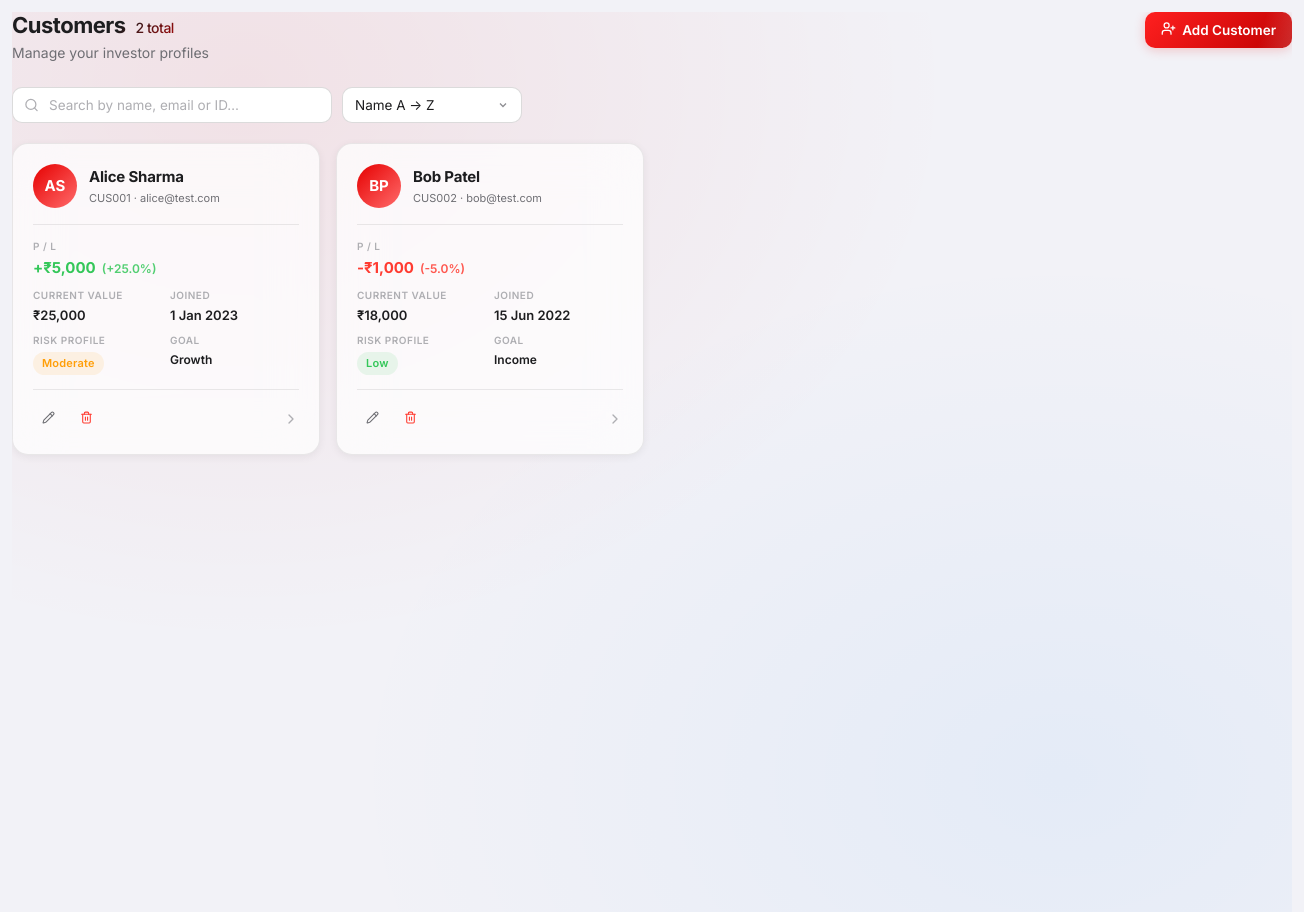
CustomersPage — search › filters customers by email
Expected: the text "Alice Sharma" is shown, [89,167,184,186]
In the search field with placeholder "Search by name, email or ID…": (172, 105) [12,87,332,123], type "bob@test.com"
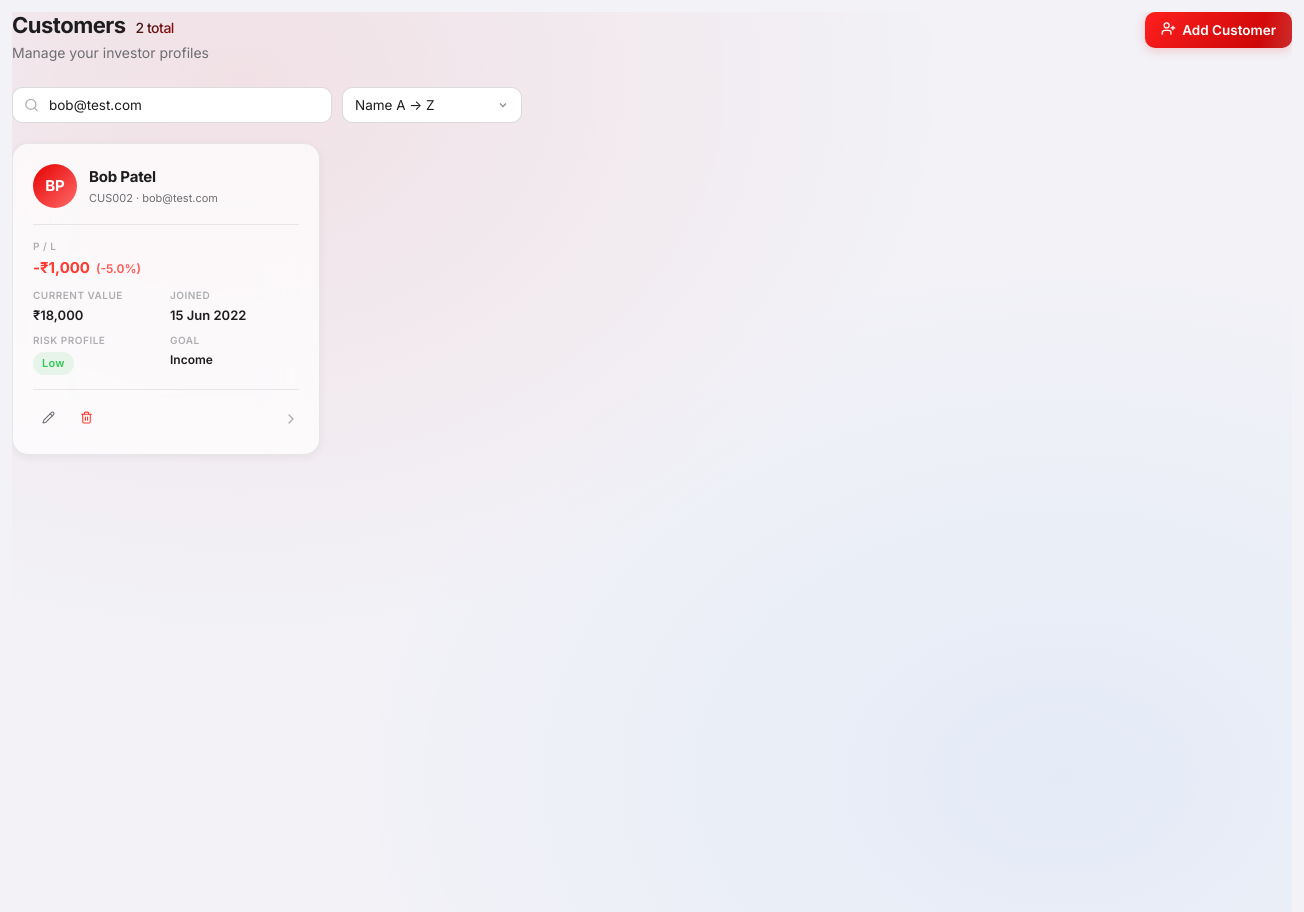
Expected: the text "Bob Patel" is shown, [89,167,156,186]
Expected: the text "Alice Sharma" is gone
